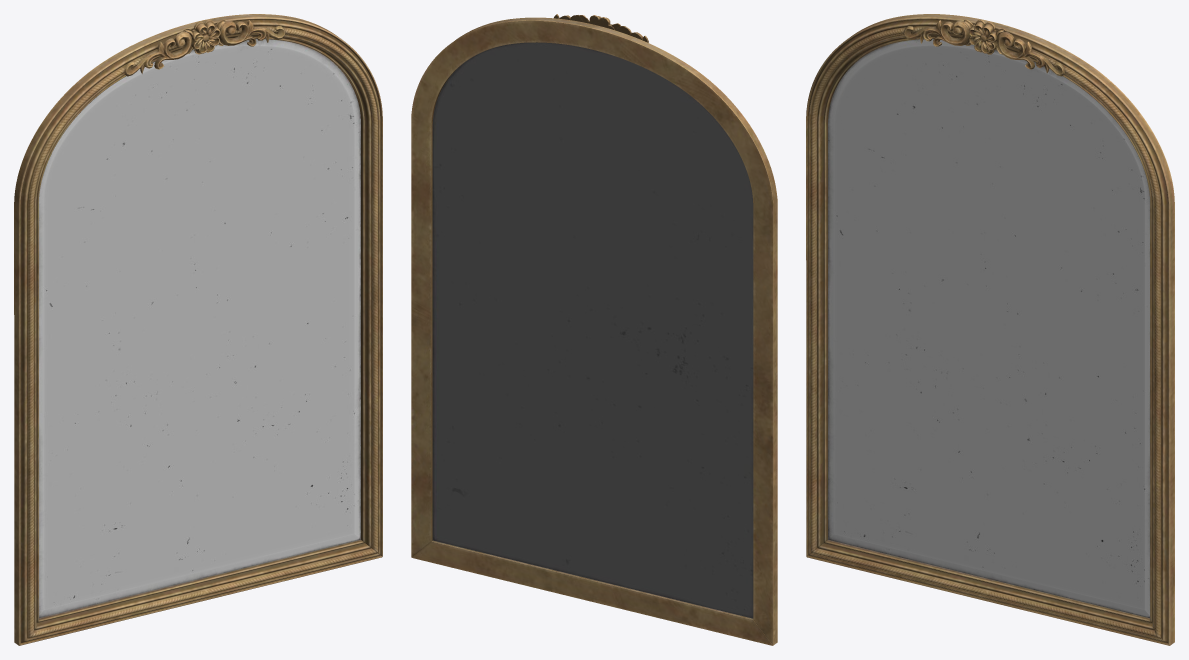
File: ornate_mirror_01.glb
3 renders of one model, left to right at view 1: azimuth 30°, elevation 25°; view 2: azimuth 150°, elevation 25°; view 3: azimuth 330°, elevation 25°, orthographic.
Parts seen in each view (by area): view 1: ornate_mirror_01; view 2: ornate_mirror_01; view 3: ornate_mirror_01.
Boxes of the visible parts, left/top/right/bottom form: ornate_mirror_01: left=14, top=14, right=382, bottom=645; ornate_mirror_01: left=411, top=14, right=777, bottom=645; ornate_mirror_01: left=806, top=14, right=1174, bottom=645.
Size of the model in its own units: 0.4865 by 0.7442 by 0.0259.
Materials: 1 (1 with a texture image).
